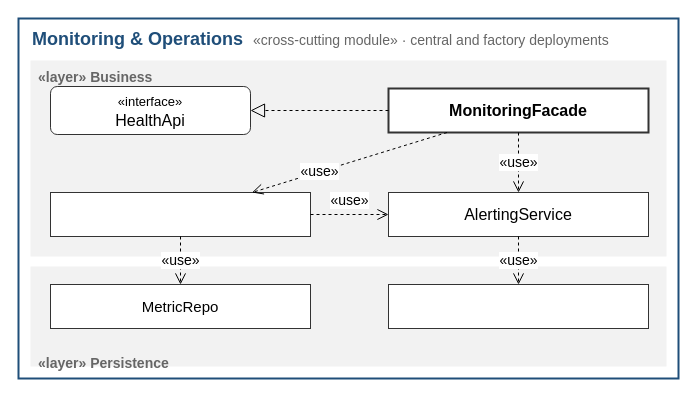
Image size: 696x396. Some labels were removed from this diagram. The centre of each missing label's shape, as x and y in pixels:
AlertRepo: point (518, 306)
HealthCollectionService: point (180, 214)
